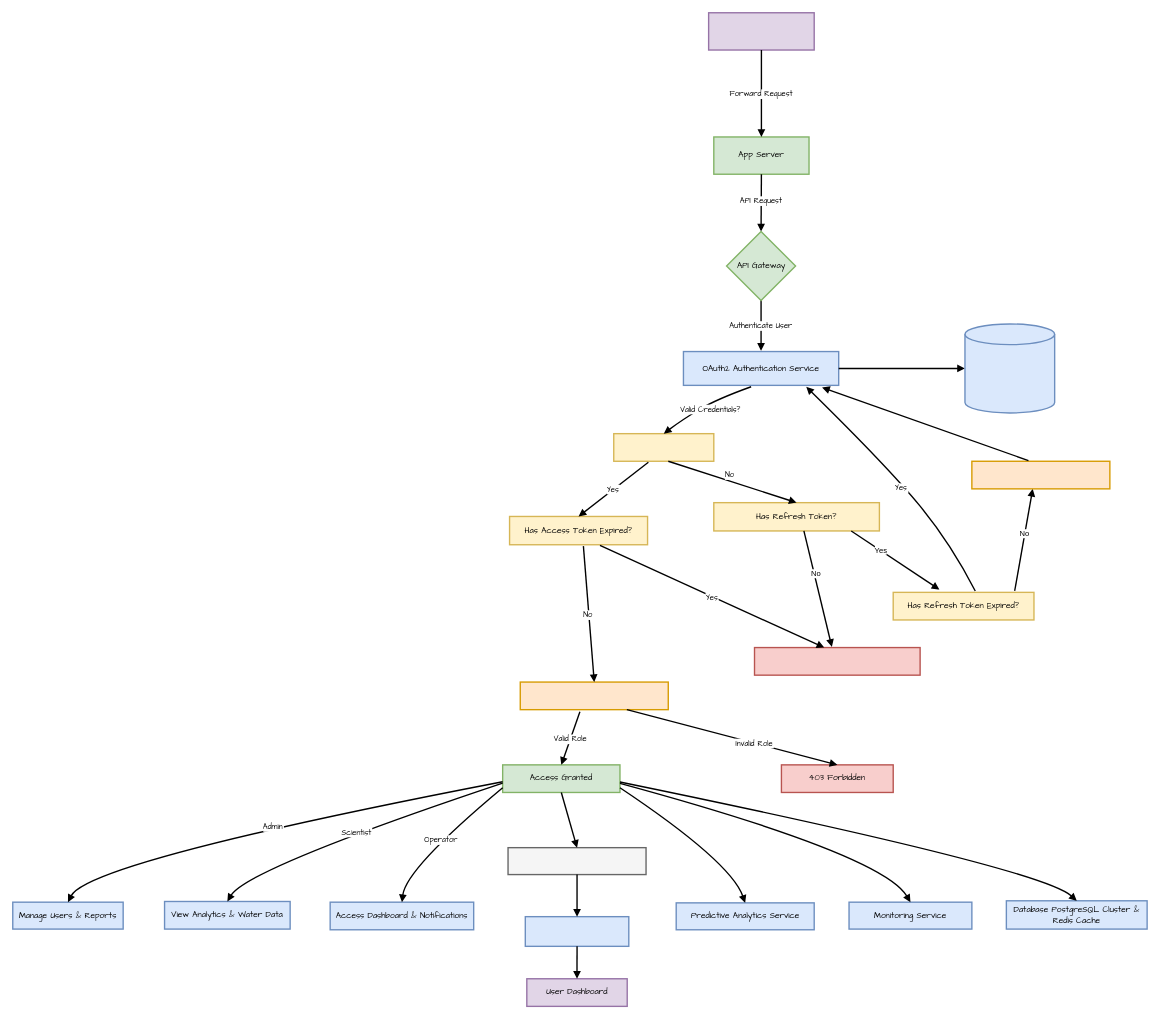
The diagram is 1159 pixels wide and 1018 high, and some of its shapes have lost their labels. The box of each missing label's shape, as (x1, y1, x2, y2) in pixels:
401 Unauthorized: (753, 647, 920, 676)
Generate Access Token: (971, 460, 1110, 489)
Has Access Token?: (613, 433, 714, 462)
Notification Service: (524, 916, 629, 947)
RabbitMQ Message Broker: (507, 847, 646, 875)
Store Refresh Token User Database (PostgreSql): (964, 323, 1055, 413)
User Request: (708, 12, 815, 50)
Validate Role: (519, 681, 669, 710)
